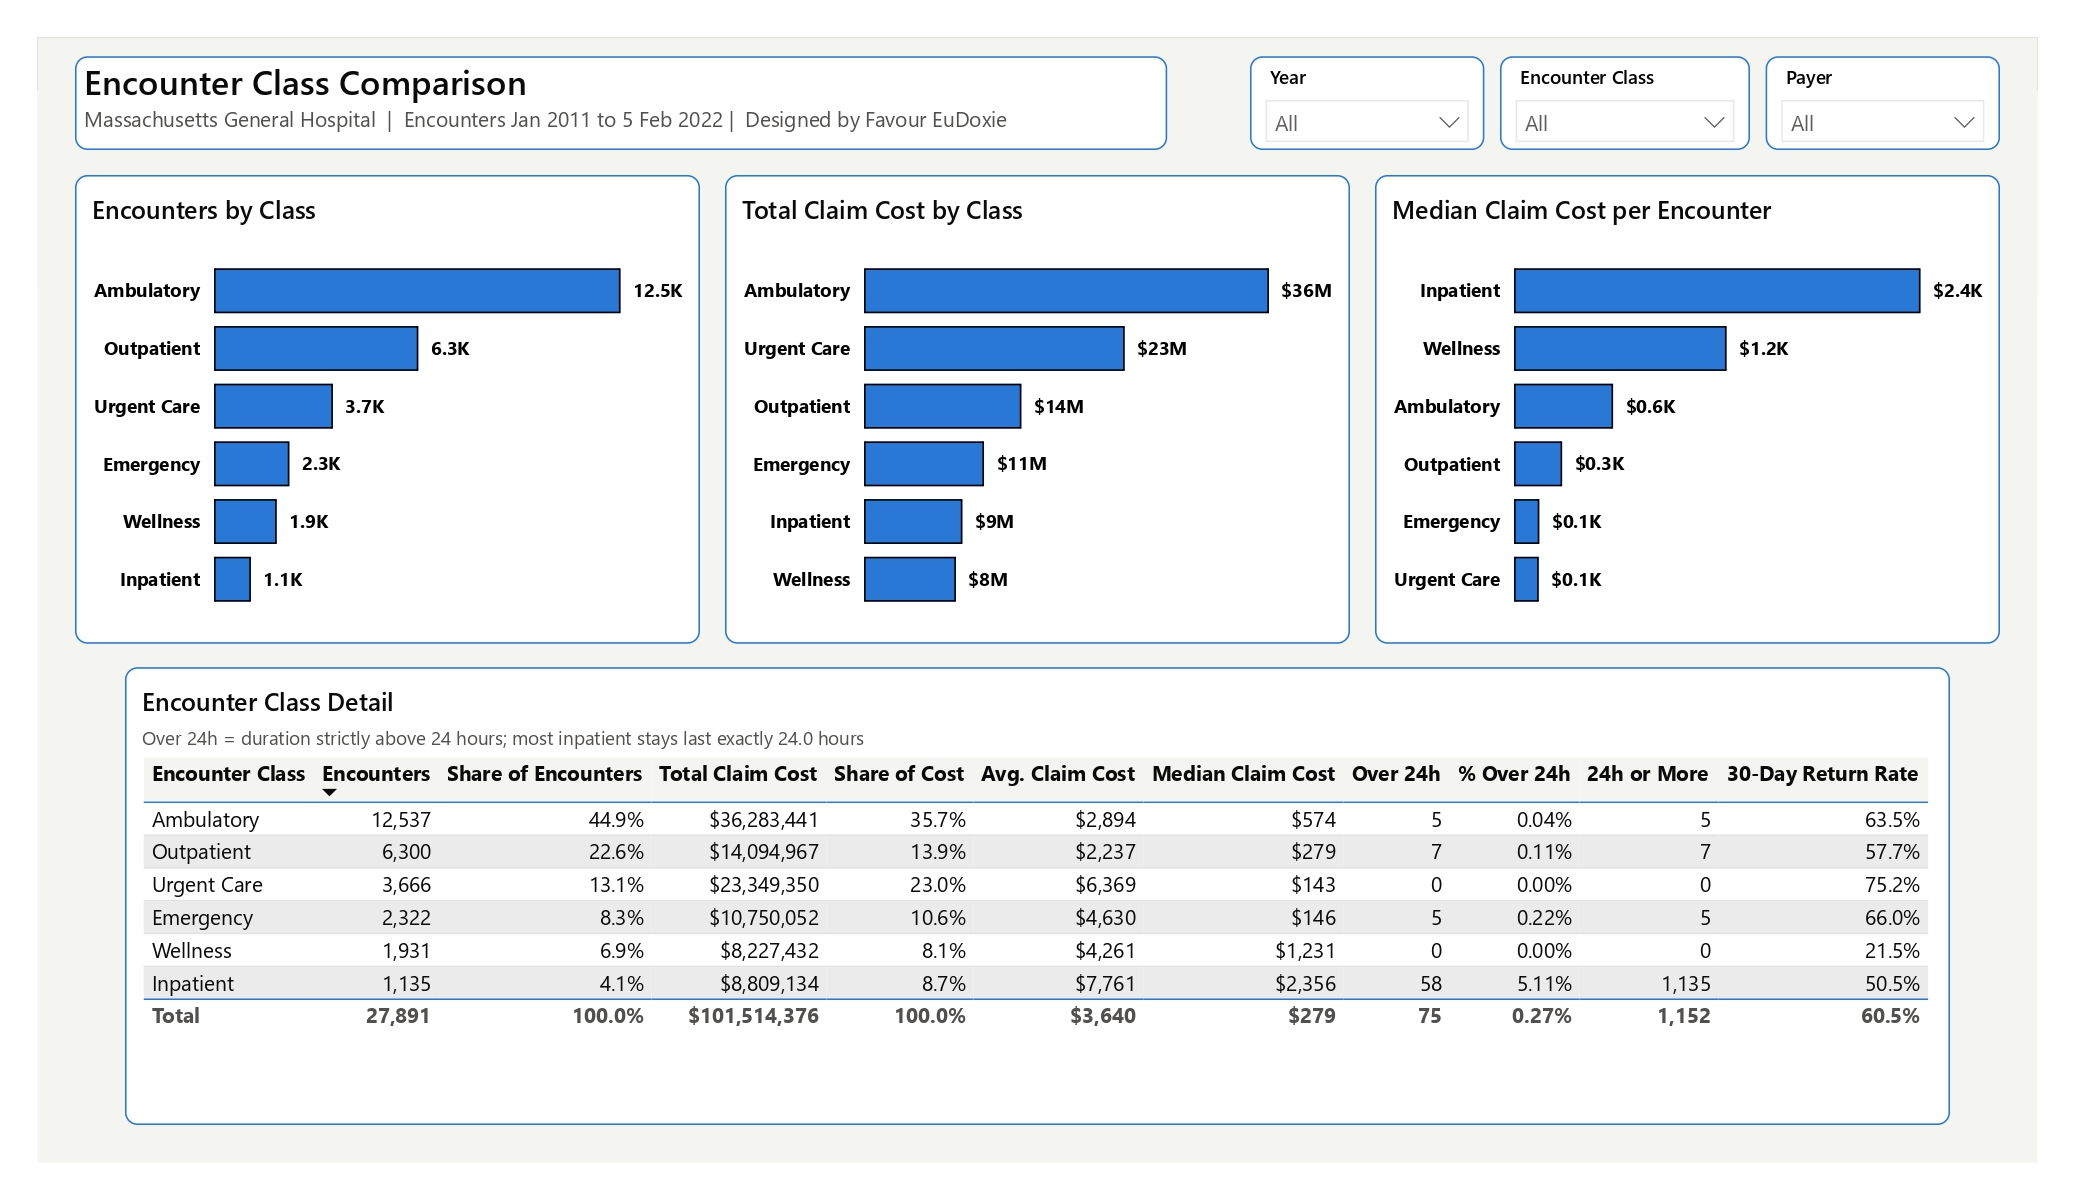

What the dashboard file says about the page in this screenshot:
{"tool":"powerbi","page":{"name":"Encounter Classes","canvas":[1280,720],"ordinal":2},"visuals":[{"type":"textbox","box":[24.3,12,699.1,60],"z":1000},{"type":"slicer","fields":{"Values":["Date.Year"]},"box":[776,12,150,60],"z":3000},{"type":"slicer","fields":{"Values":["Encounters.Encounter Class"]},"box":[936,12,160,60],"z":4000},{"type":"slicer","fields":{"Values":["Payers.Payer"]},"box":[1106,12,150,60],"z":5000},{"type":"clusteredBarChart","title":"Encounters by Class","fields":{"Category":["Encounters.Encounter Class"],"Y":["Encounters.Total Encounters"]},"box":[24,88,400,300],"z":6000},{"type":"clusteredBarChart","title":"Total Claim Cost by Class","fields":{"Category":["Encounters.Encounter Class"],"Y":["Encounters.Total Claim Cost"]},"box":[440,88,400,300],"z":7000},{"type":"clusteredBarChart","title":"Median Claim Cost per Encounter","fields":{"Category":["Encounters.Encounter Class"],"Y":["Encounters.Median Claim Cost"]},"box":[856,88,400,300],"z":8000},{"type":"tableEx","title":"Encounter Class Detail","fields":{"Values":["Encounters.Encounter Class","Encounters.Total Encounters","Encounters.Encounter Share %","Encounters.Total Claim Cost","Encounters.Claim Cost Share %","Encounters.Avg Claim Cost","Encounters.Median Claim Cost","Encounters.Encounters Over 24h","Encounters.% Encounters Over 24h","Encounters.Encounters 24h or More","Encounters.30-Day Return Rate %"]},"box":[56.1,403.4,1167.8,292.7],"z":9000}]}

Visuals, with their boxes on the page's 1280x720 design canvas (x1, y1, x2, y2). These are canvas units, not pixel positions in the 2075x1200 screenshot, which may show the page scaled, cropped or inside an application window:
textbox: locate(24, 12, 723, 72)
slicer - Date.Year: locate(776, 12, 926, 72)
slicer - Encounters.Encounter Class: locate(936, 12, 1096, 72)
slicer - Payers.Payer: locate(1106, 12, 1256, 72)
"Encounters by Class" clusteredBarChart: locate(24, 88, 424, 388)
"Total Claim Cost by Class" clusteredBarChart: locate(440, 88, 840, 388)
"Median Claim Cost per Encounter" clusteredBarChart: locate(856, 88, 1256, 388)
"Encounter Class Detail" tableEx: locate(56, 403, 1224, 696)
